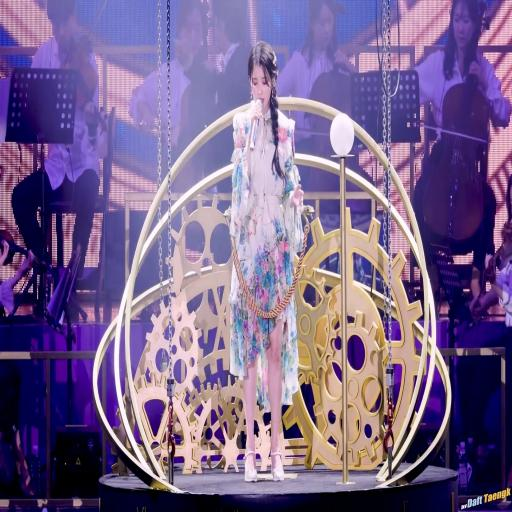IU: (247, 40, 278, 112)
